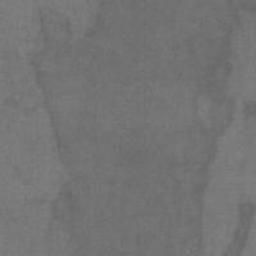Water spot: (31, 0, 256, 256), (216, 200, 256, 256), (241, 97, 256, 118)
